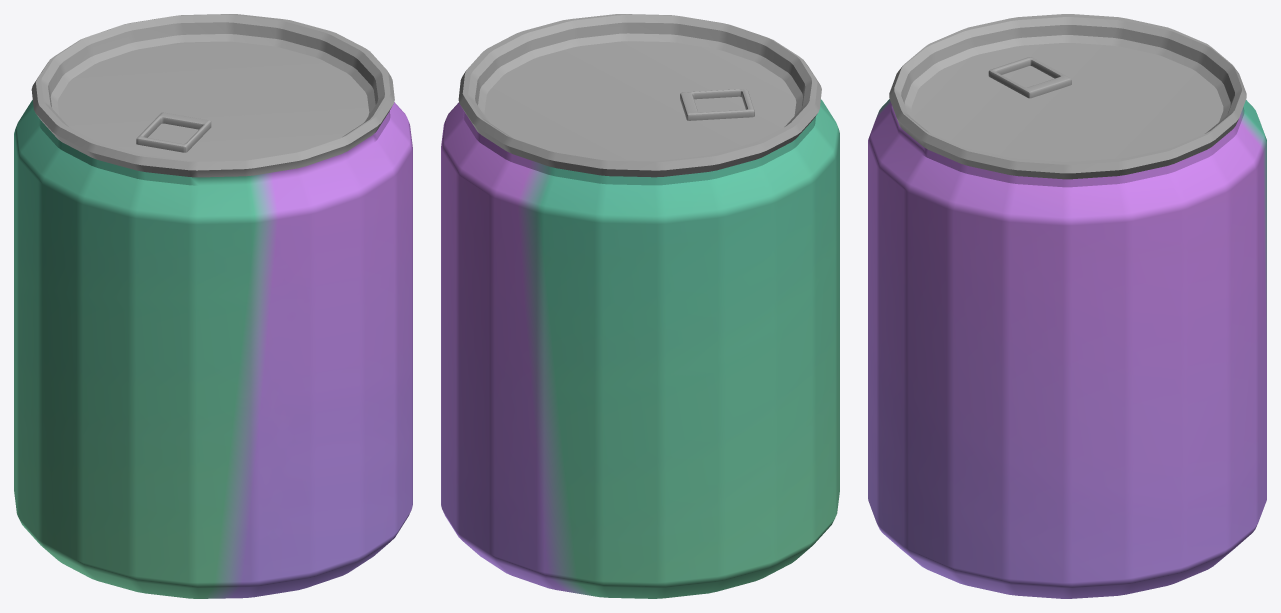
File: Ürün74.fbx
3 renders of one model, left to right at view 1: azimuth 30°, elevation 25°; view 2: azimuth 150°, elevation 25°; view 3: azimuth 270°, elevation 25°, orthographic.
Visible parts, largest first — view 1: Ürün9; view 2: Ürün9; view 3: Ürün9.
Boxes of the visible parts, bbox=[...] form: Ürün9: bbox=[14, 14, 412, 598]; Ürün9: bbox=[441, 14, 839, 598]; Ürün9: bbox=[868, 14, 1266, 598].
Bounding box in the file's own units: 11.57 × 14.02 × 11.57.
